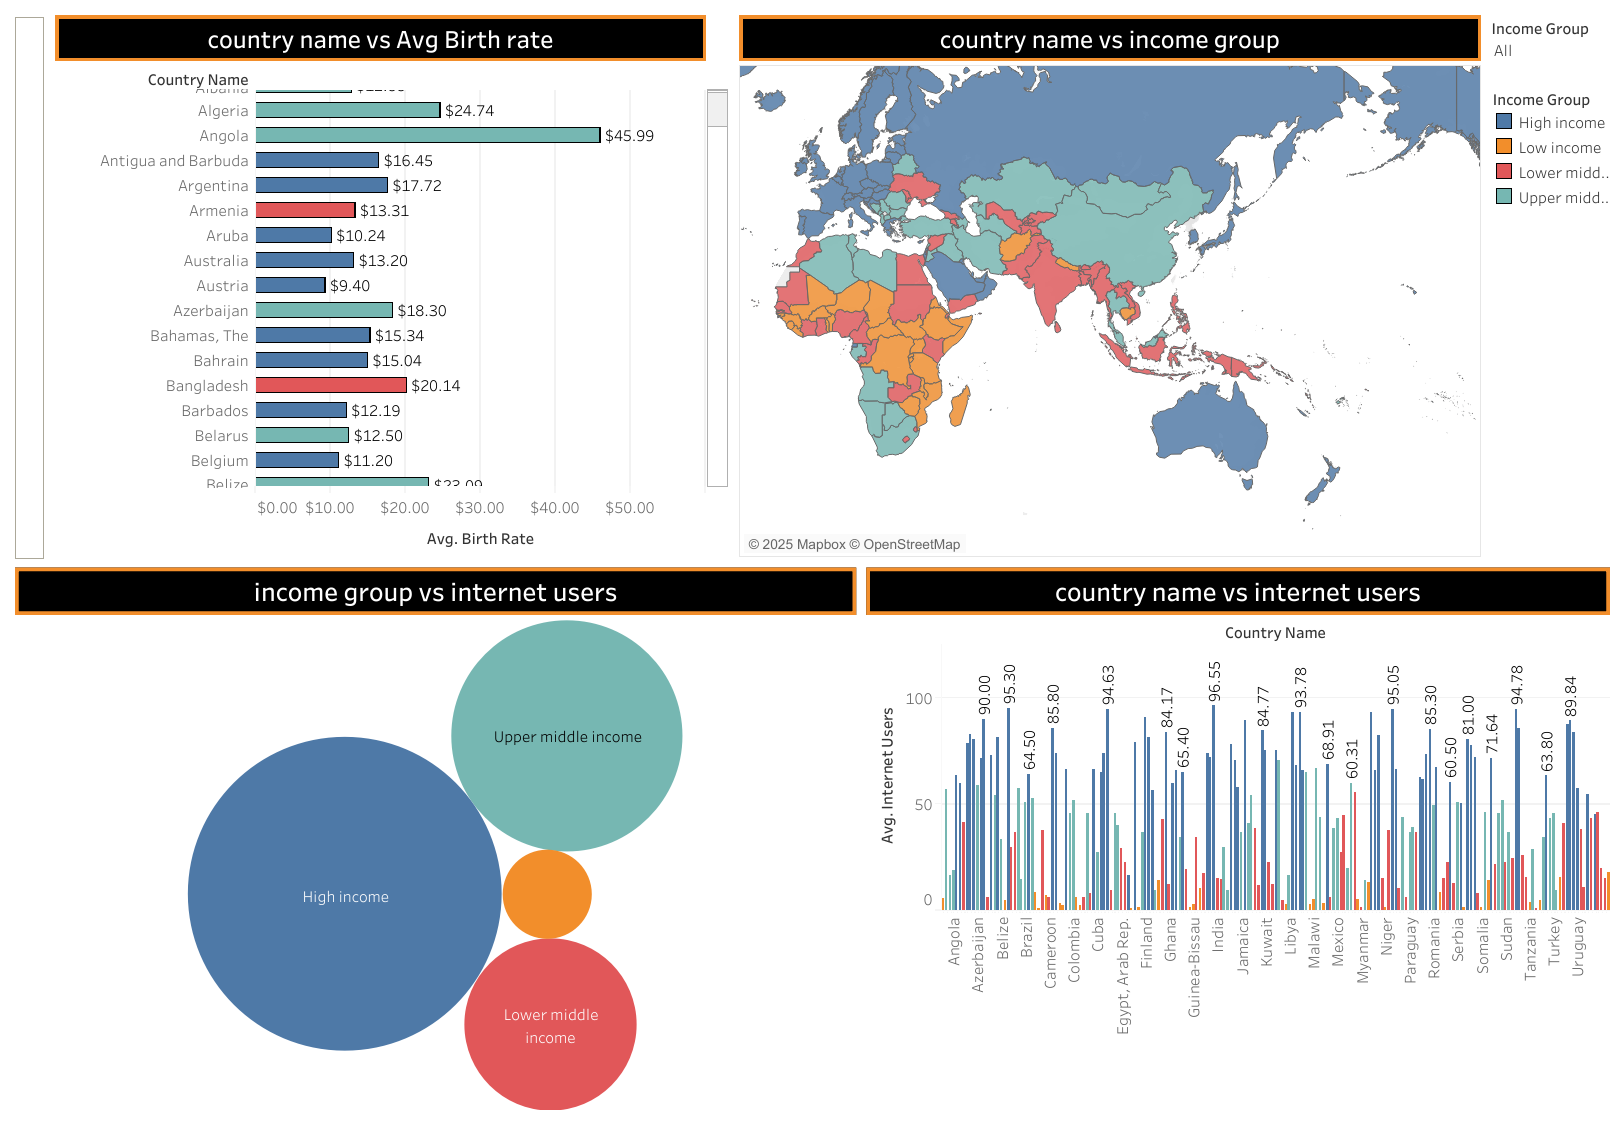

This screenshot's page, from the dashboard's own definition file:
{"tool":"tableau","page":{"name":"Dashboard 1","canvas":[1300,900],"ordinal":0},"visuals":[{"type":"web page","param":"https://runwayml.com/","box":[8,8,32,442]},{"type":"web page","param":"https://tanmayportfolio.ccbp.tech/","box":[40,8,649,442]},{"type":"worksheet","title":"country code vs avg birth rate","mark":"Automatic","rows":["CountryName"],"cols":["BirthRate"],"box":[689,8,500,442]},{"type":"filter","title":"country code vs avg birth rate","param":"[federated.0ienvtf0q7wljo11b6vih16pb74h].[none:IncomeGroup:nk]","box":[1189,8,103,56]},{"type":"legend","title":"country code vs avg birth rate","param":"[federated.0ienvtf0q7wljo11b6vih16pb74h].[none:IncomeGroup:nk]","box":[1189,64,103,107]},{"type":"legend","title":"income group vs internet users","param":"[federated.0ienvtf0q7wljo11b6vih16pb74h].[avg:InternetUsers:qk]","box":[1189,171,103,22]},{"type":"worksheet","title":"income group vs internet users","mark":"Circle","box":[8,450,348,442]},{"type":"worksheet","title":"country name vs income group","mark":"Multipolygon","box":[356,450,449,442]},{"type":"worksheet","title":"country name vs internet users","mark":"Automatic","rows":["InternetUsers"],"cols":["CountryName"],"box":[805,450,487,442]}]}

Visuals, with their boxes in screenshot pixels (x1, y1, x2, y2), scaled from the page's 1300x900 canvas onto the 1624x1124 screenshot:
web page: crop(10, 10, 50, 562)
web page: crop(50, 10, 861, 562)
"country code vs avg birth rate" worksheet: crop(861, 10, 1485, 562)
"country code vs avg birth rate" filter: crop(1485, 10, 1614, 80)
"country code vs avg birth rate" legend: crop(1485, 80, 1614, 214)
"income group vs internet users" legend: crop(1485, 214, 1614, 241)
"income group vs internet users" worksheet (Circle marks): crop(10, 562, 445, 1114)
"country name vs income group" worksheet (Multipolygon marks): crop(445, 562, 1006, 1114)
"country name vs internet users" worksheet: crop(1006, 562, 1614, 1114)
